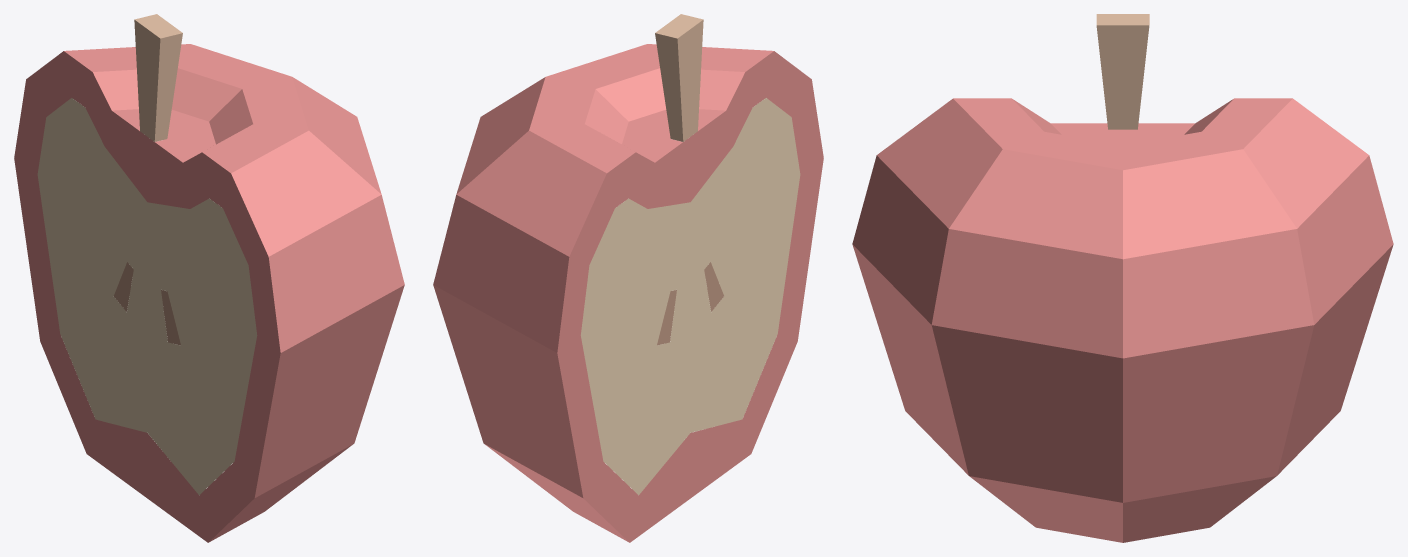
File: apple-half.glb
The picture shows the model from 3 angles, left to right: view 1: azimuth 30°, elevation 25°; view 2: azimuth 150°, elevation 25°; view 3: azimuth 270°, elevation 25°; orthographic projection.
Visible parts, largest first — view 1: appleHalf; view 2: appleHalf; view 3: appleHalf.
Part boxes in pixels (left/top/right/bottom): appleHalf: left=14, top=14, right=404, bottom=542; appleHalf: left=433, top=14, right=823, bottom=542; appleHalf: left=852, top=14, right=1393, bottom=542.
Size of the model in its own units: 0.04 by 0.0777 by 0.08.
